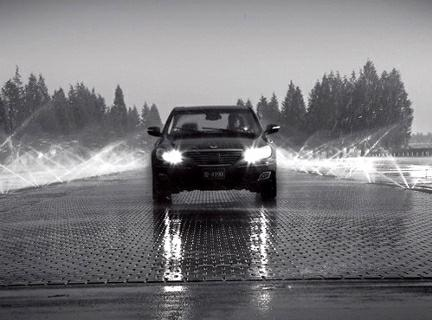现代-劳恩斯: (147, 100, 284, 217)
